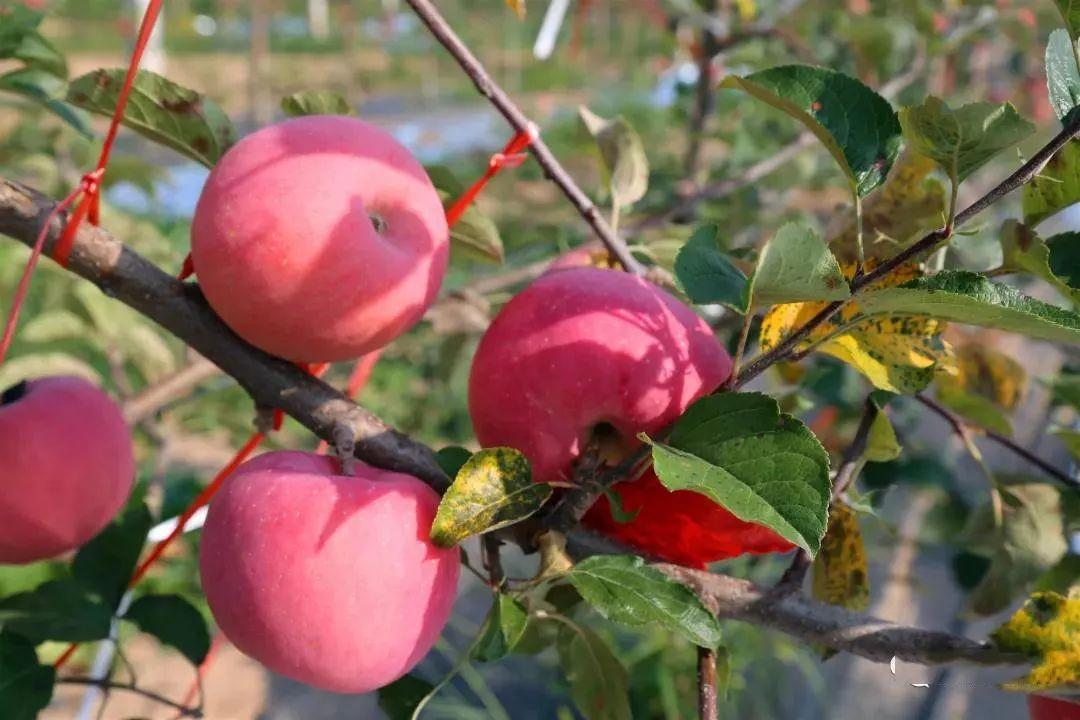apple: (467, 258, 730, 527), (184, 112, 449, 361), (201, 451, 459, 689), (2, 372, 140, 567)
